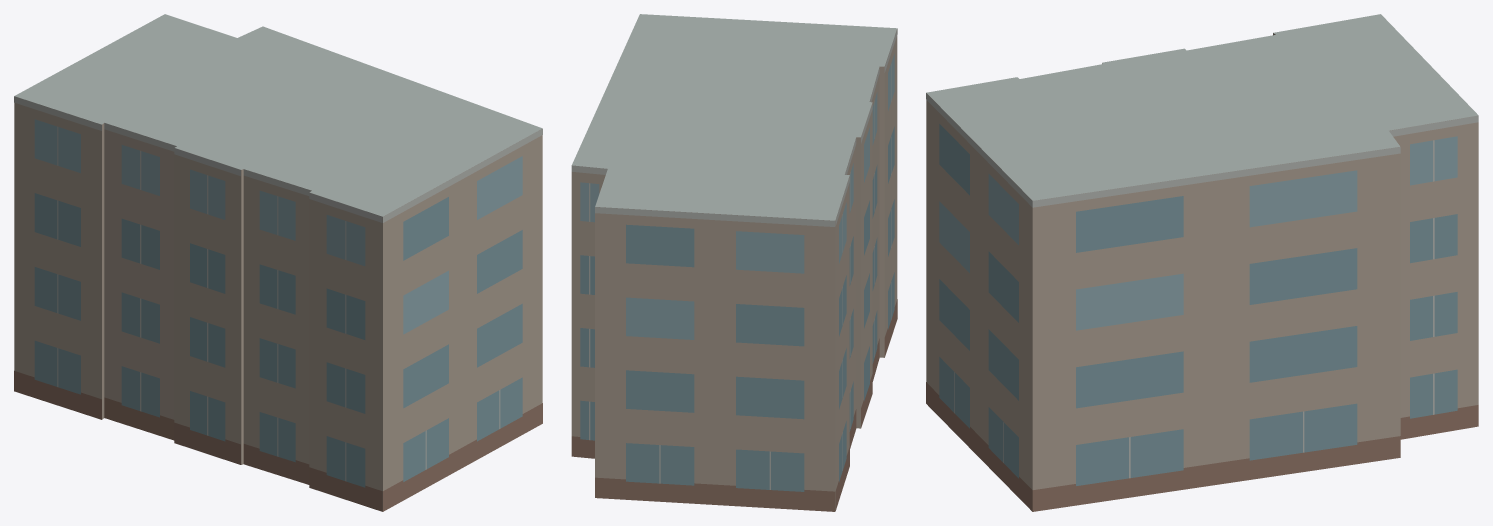
The model's file is survey-upis-32889243.glb.
3 renders of one model, left to right at view 1: azimuth 30°, elevation 25°; view 2: azimuth 150°, elevation 25°; view 3: azimuth 270°, elevation 25°, orthographic. The views are drawn at different scales.
Visible parts, largest first — view 1: survey-upis-32889243.tmp; view 2: survey-upis-32889243.tmp; view 3: survey-upis-32889243.tmp.
Part boxes in pixels (box(x1,y1,x2,y2)): survey-upis-32889243.tmp: box(14, 14, 542, 511); survey-upis-32889243.tmp: box(571, 14, 897, 511); survey-upis-32889243.tmp: box(926, 14, 1478, 511).
Bounding box in the file's own units: 14.38 × 11.15 × 17.96.
